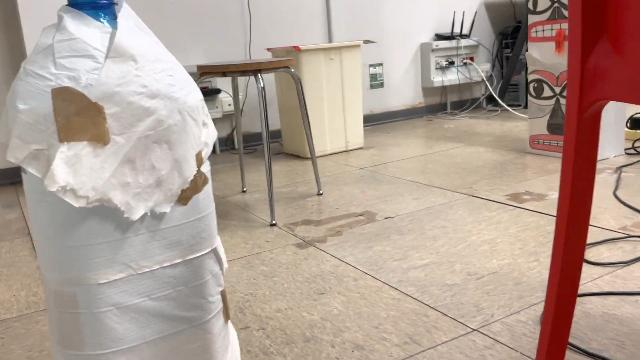Chair: (528, 0, 640, 360)
Stool: (191, 54, 329, 230)
